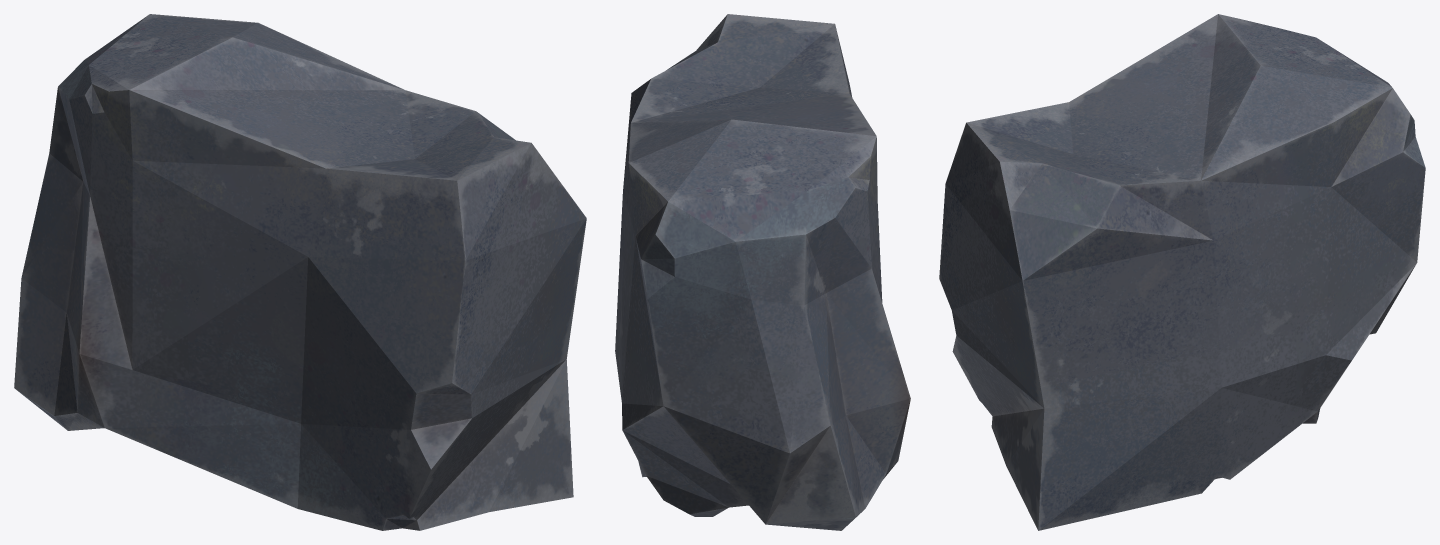
The model's file is rock5.glb.
3 views of the same model, side by side, from view 1: azimuth 30°, elevation 25°; view 2: azimuth 150°, elevation 25°; view 3: azimuth 270°, elevation 25° (orthographic). The views are drawn at different scales.
Visible parts, largest first — view 1: Object_66; view 2: Object_66; view 3: Object_66.
Part boxes in pixels (x1,y1,x2,y2): Object_66: [14, 14, 586, 530]; Object_66: [615, 14, 910, 530]; Object_66: [939, 14, 1425, 530].
Size of the model in its own units: 2.18 by 2.23 by 2.64.
1 material, 1 textured.
